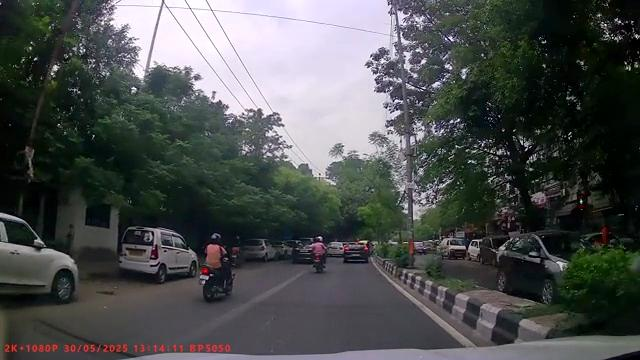motorcycle_with_helmet: (198, 231, 237, 302)
